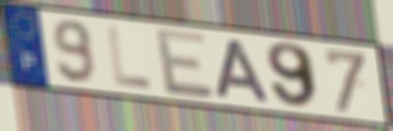7: (323, 47, 367, 115)
9: (266, 40, 322, 113), (51, 18, 101, 86)
A: (213, 37, 273, 105)
E: (153, 26, 217, 101)
L: (105, 24, 155, 92)
